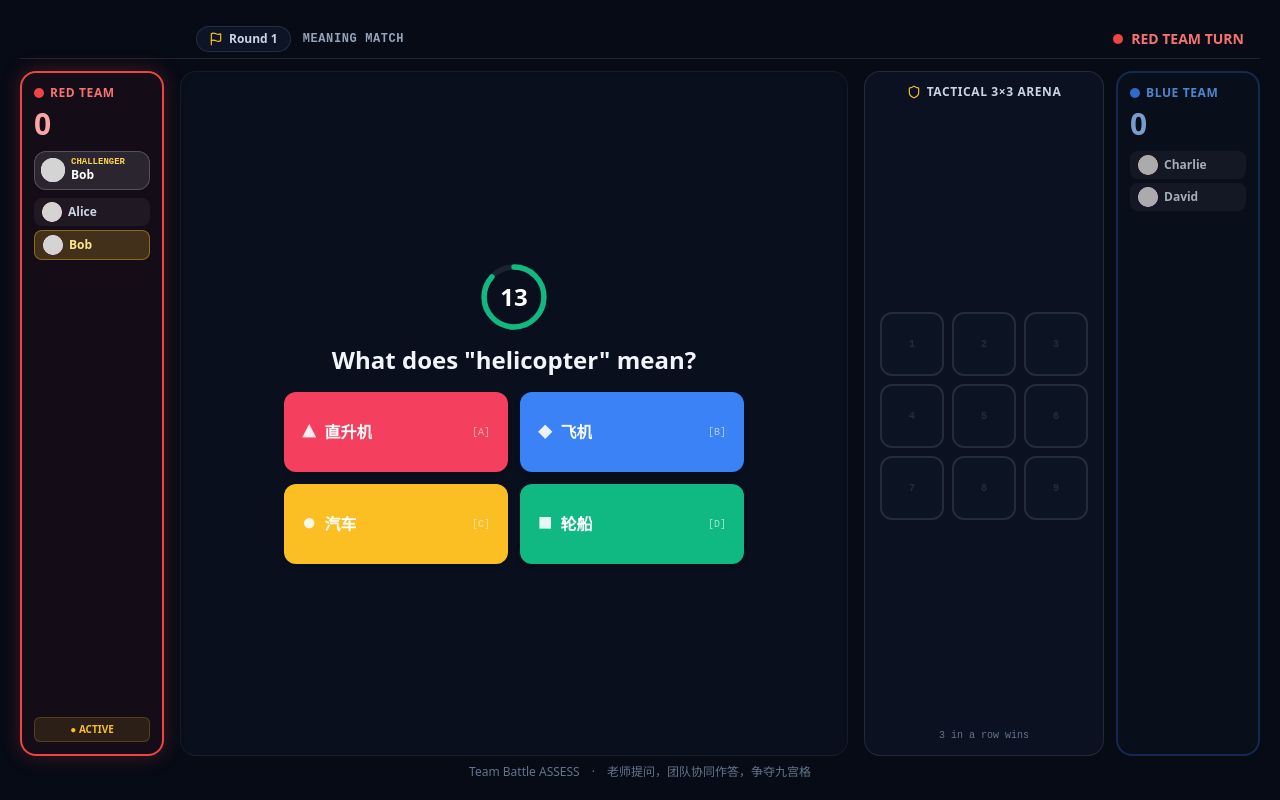
BoardTeamBattle v3 (ASSESS phase) › allows clicking an open cell in choose_cell phase to claim territory
# Answer correctly
Click the text "直升机" at (348, 432), box [324,420,372,444]
Wait 3000 ms
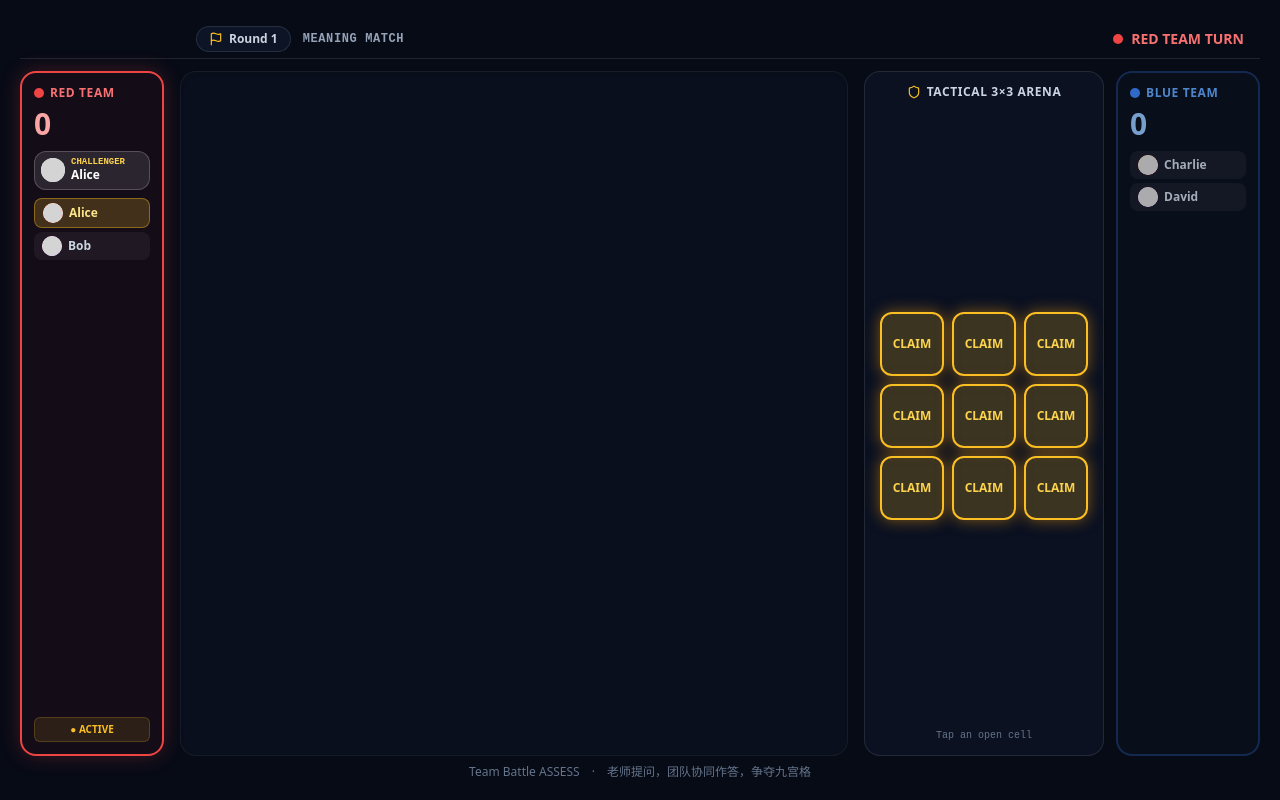
Expected: the text "CLAIM" is shown 9 times
# Claim first cell
Click the 1st button "CLAIM" at (912, 344), box [880,312,944,376]
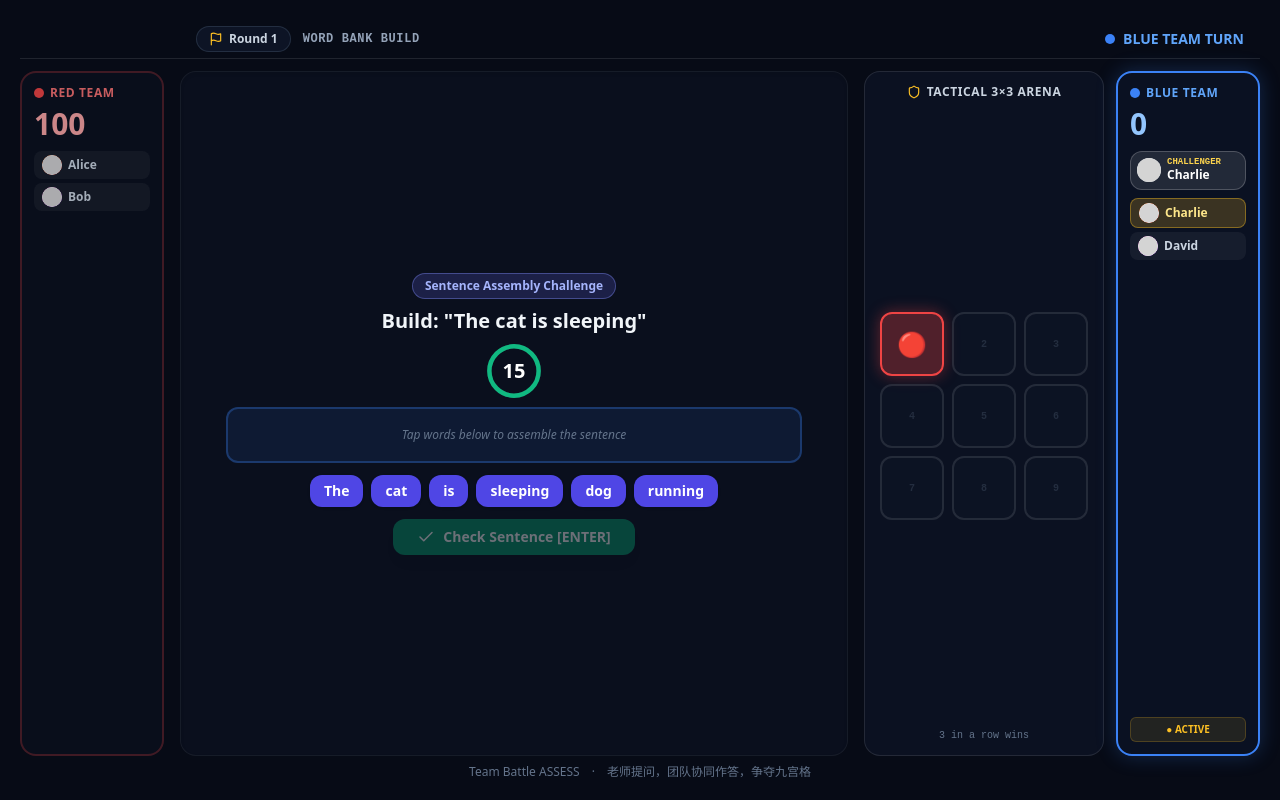
Expected: the text "🔴" is shown, [897,328,927,360]
